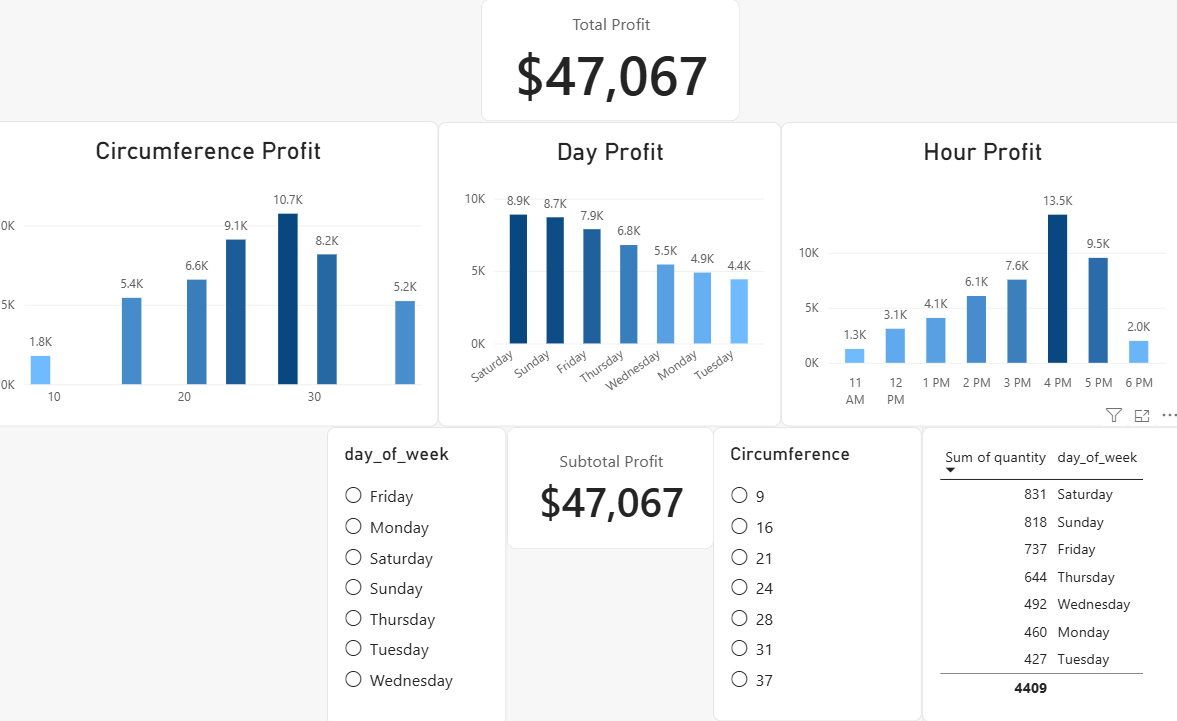

The dashboard page shown, as its layout file describes it:
{"tool":"powerbi","page":{"name":"Page 1","canvas":[1920,1080],"ordinal":0},"visuals":[{"type":"cardVisual","fields":{"Data":["pumpkin_patch_sales.Total Profit"]},"box":[833,119.8,254.3,120.7],"z":0},{"type":"columnChart","title":"Circumference Profit","fields":{"Category":["pumpkin_patch_sales.pumpkin_Circumference_in"],"Y":["Sum(pumpkin_patch_sales.line_profit)"]},"box":[338.7,239.5,452.5,300.4],"z":1000},{"type":"clusteredColumnChart","title":"Day Profit","fields":{"Category":["pumpkin_patch_sales.day_of_week"],"Y":["Sum(pumpkin_patch_sales.line_profit)"]},"box":[791.2,240.5,336.7,299.4],"z":2000},{"type":"clusteredColumnChart","title":"Hour Profit","fields":{"Category":["pumpkin_patch_sales.Sale Hour Label"],"Y":["Sum(pumpkin_patch_sales.line_profit)"]},"box":[1127.9,240.5,394.6,299.4],"z":3000},{"type":"listSlicer","fields":{"Values":["pumpkin_patch_sales.day_of_week"]},"box":[681.9,540,176,294],"z":4000},{"type":"listSlicer","title":"Circumference","fields":{"Values":["pumpkin_patch_sales.pumpkin_Circumference_in"]},"box":[1060.6,540,205.5,289.4],"z":5000},{"type":"cardVisual","fields":{"Data":["pumpkin_patch_sales.Total Profit"]},"box":[858.8,540,203.2,120.7],"z":6000},{"type":"tableEx","fields":{"Values":["Sum(pumpkin_patch_sales.quantity)","pumpkin_patch_sales.day_of_week"]},"box":[1266.3,539.9,256.2,289.6],"z":6001}]}

Visuals, with their boxes on the page's 1920x1080 design canvas (x1, y1, x2, y2). These are canvas units, not pixel positions in the 1177x721 screenshot, which may show the page scaled, cropped or inside an application window:
cardVisual - pumpkin_patch_sales.Total Profit: 833,120,1087,240
"Circumference Profit" columnChart: 339,240,791,540
"Day Profit" clusteredColumnChart: 791,240,1128,540
"Hour Profit" clusteredColumnChart: 1128,240,1522,540
listSlicer - pumpkin_patch_sales.day_of_week: 682,540,858,834
"Circumference" listSlicer: 1061,540,1266,829
cardVisual - pumpkin_patch_sales.Total Profit: 859,540,1062,661
tableEx - Sum(pumpkin_patch_sales.quantity) x pumpkin_patch_sales.day_of_week: 1266,540,1522,830
